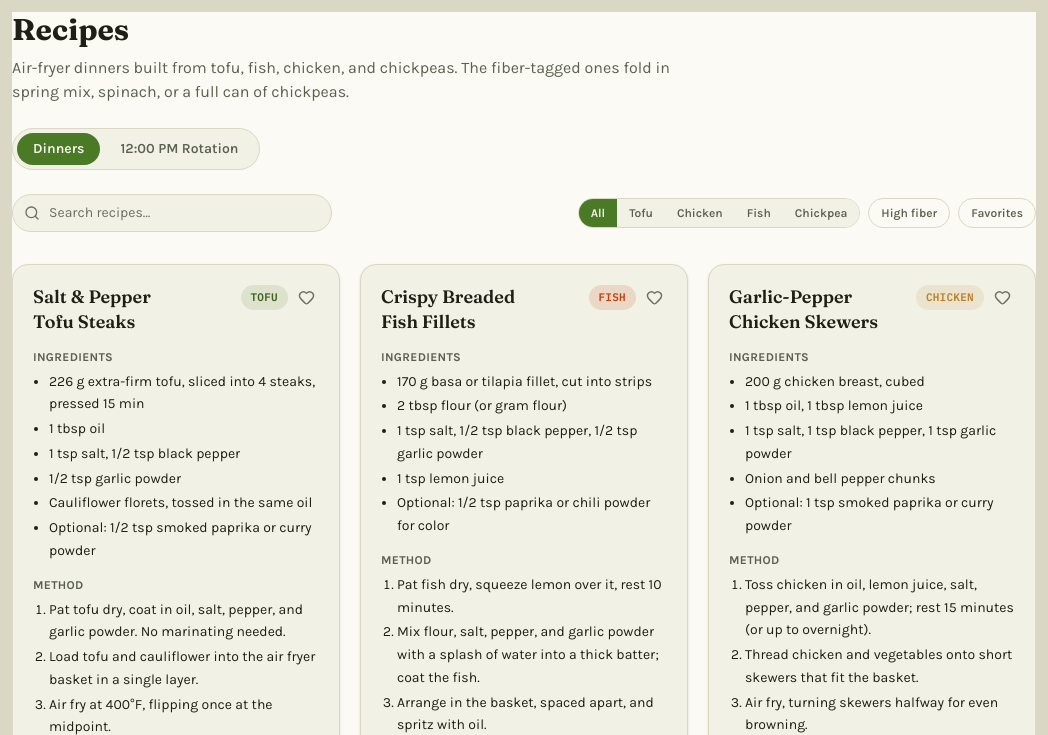
it: Recipes › filters by search text
The width and height of the screenshot is (1048, 735).
Type "spinach" into the search field with placeholder "Search recipes…".
click(172, 213); type("spinach")  # box [12,194,332,232]
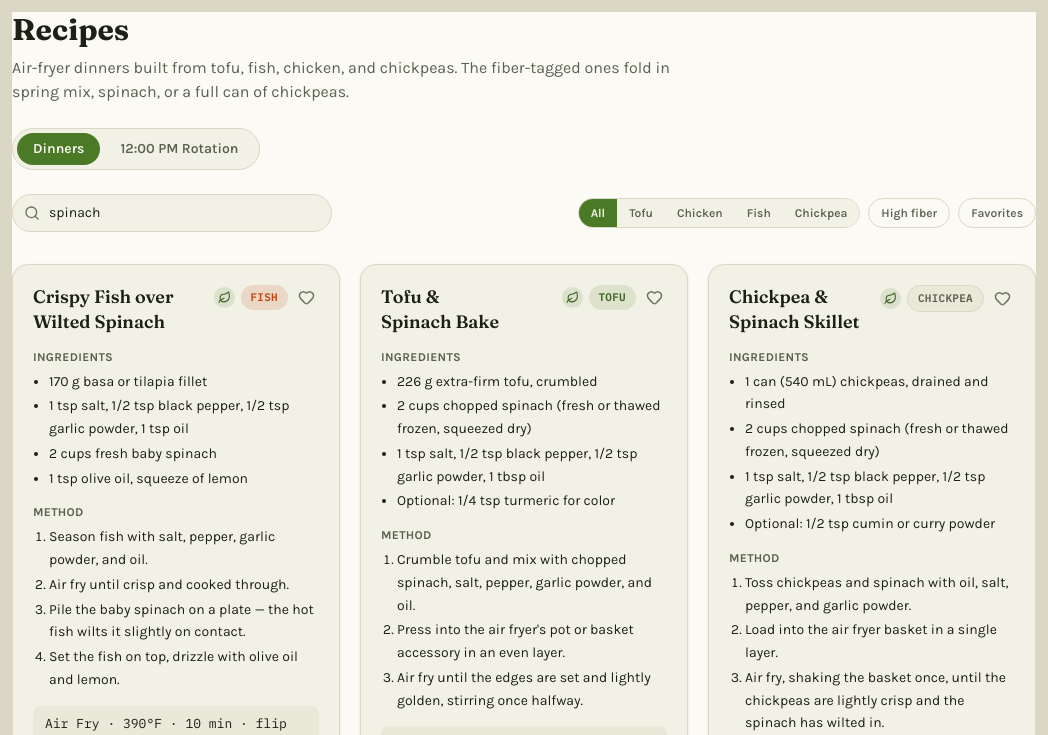
Check: the heading "Tofu & Spinach Bake" is shown, box [381,285,499,333]
Check: the heading "Salt & Pepper Tofu Steaks" is gone
